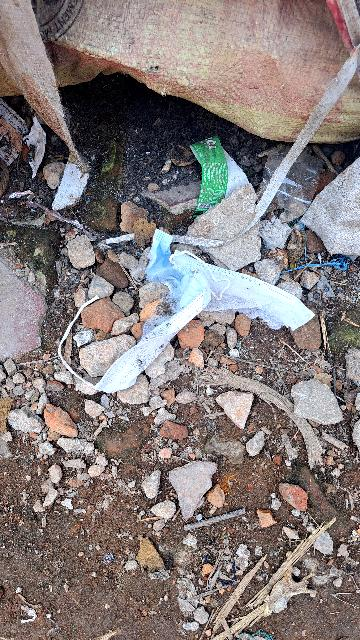mask: (129, 256, 326, 357)
